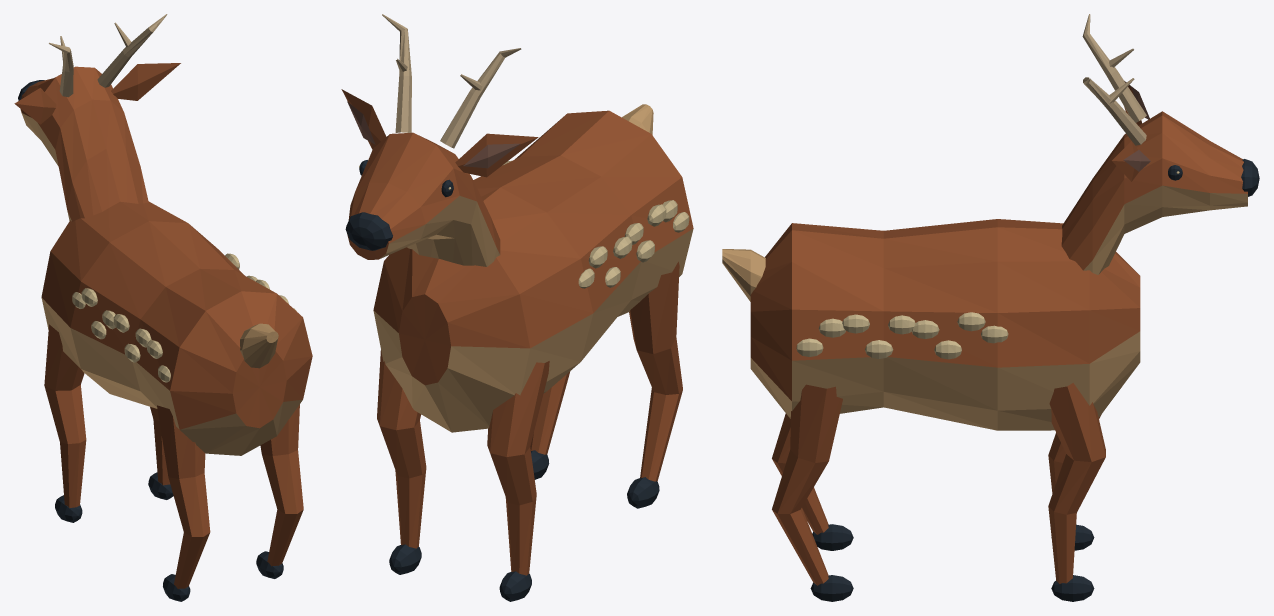
File: deer.glb
The picture shows the model from 3 angles, left to right: view 1: azimuth 30°, elevation 25°; view 2: azimuth 150°, elevation 25°; view 3: azimuth 270°, elevation 25°; orthographic projection. The views are drawn at different scales.
Visible parts, largest first — view 1: Body, Head, Leg2, Leg0, Leg3, Tail, Leg1; view 2: Body, Head, Leg2, Leg0, Leg1, Leg3, Tail; view 3: Body, Head, Leg3, Leg1, Leg2, Tail, Leg0.
Boxes of the visible parts, x1,y1,x2,y2 form: Body: (41,201,312,455); Head: (14,14,180,221); Leg2: (157,405,210,601); Leg0: (44,324,86,522); Leg3: (256,404,303,578); Tail: (240,323,278,368); Leg1: (148,407,173,499); Body: (373,110,693,432); Head: (341,14,538,266); Leg2: (627,261,682,508); Leg0: (487,361,549,601); Leg1: (377,350,426,574); Leg3: (530,371,570,479); Tail: (622,104,653,134); Body: (750,219,1140,430); Head: (1061,14,1259,274); Leg3: (772,384,853,601); Leg1: (1048,383,1105,601); Leg2: (772,413,853,550); Tail: (722,249,765,301); Leg0: (1048,414,1101,550).
Bounding box in the file's own units: 0.68 × 1.85 × 1.7.
